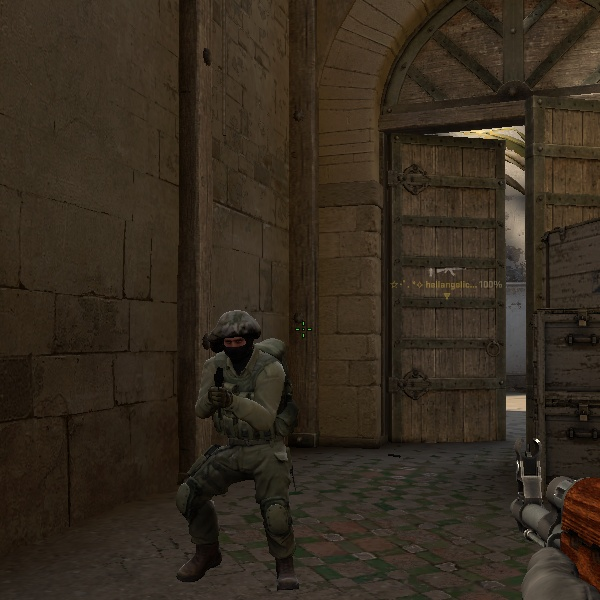ct_body: (153, 308, 311, 589)
ct_head: (209, 313, 264, 370)
